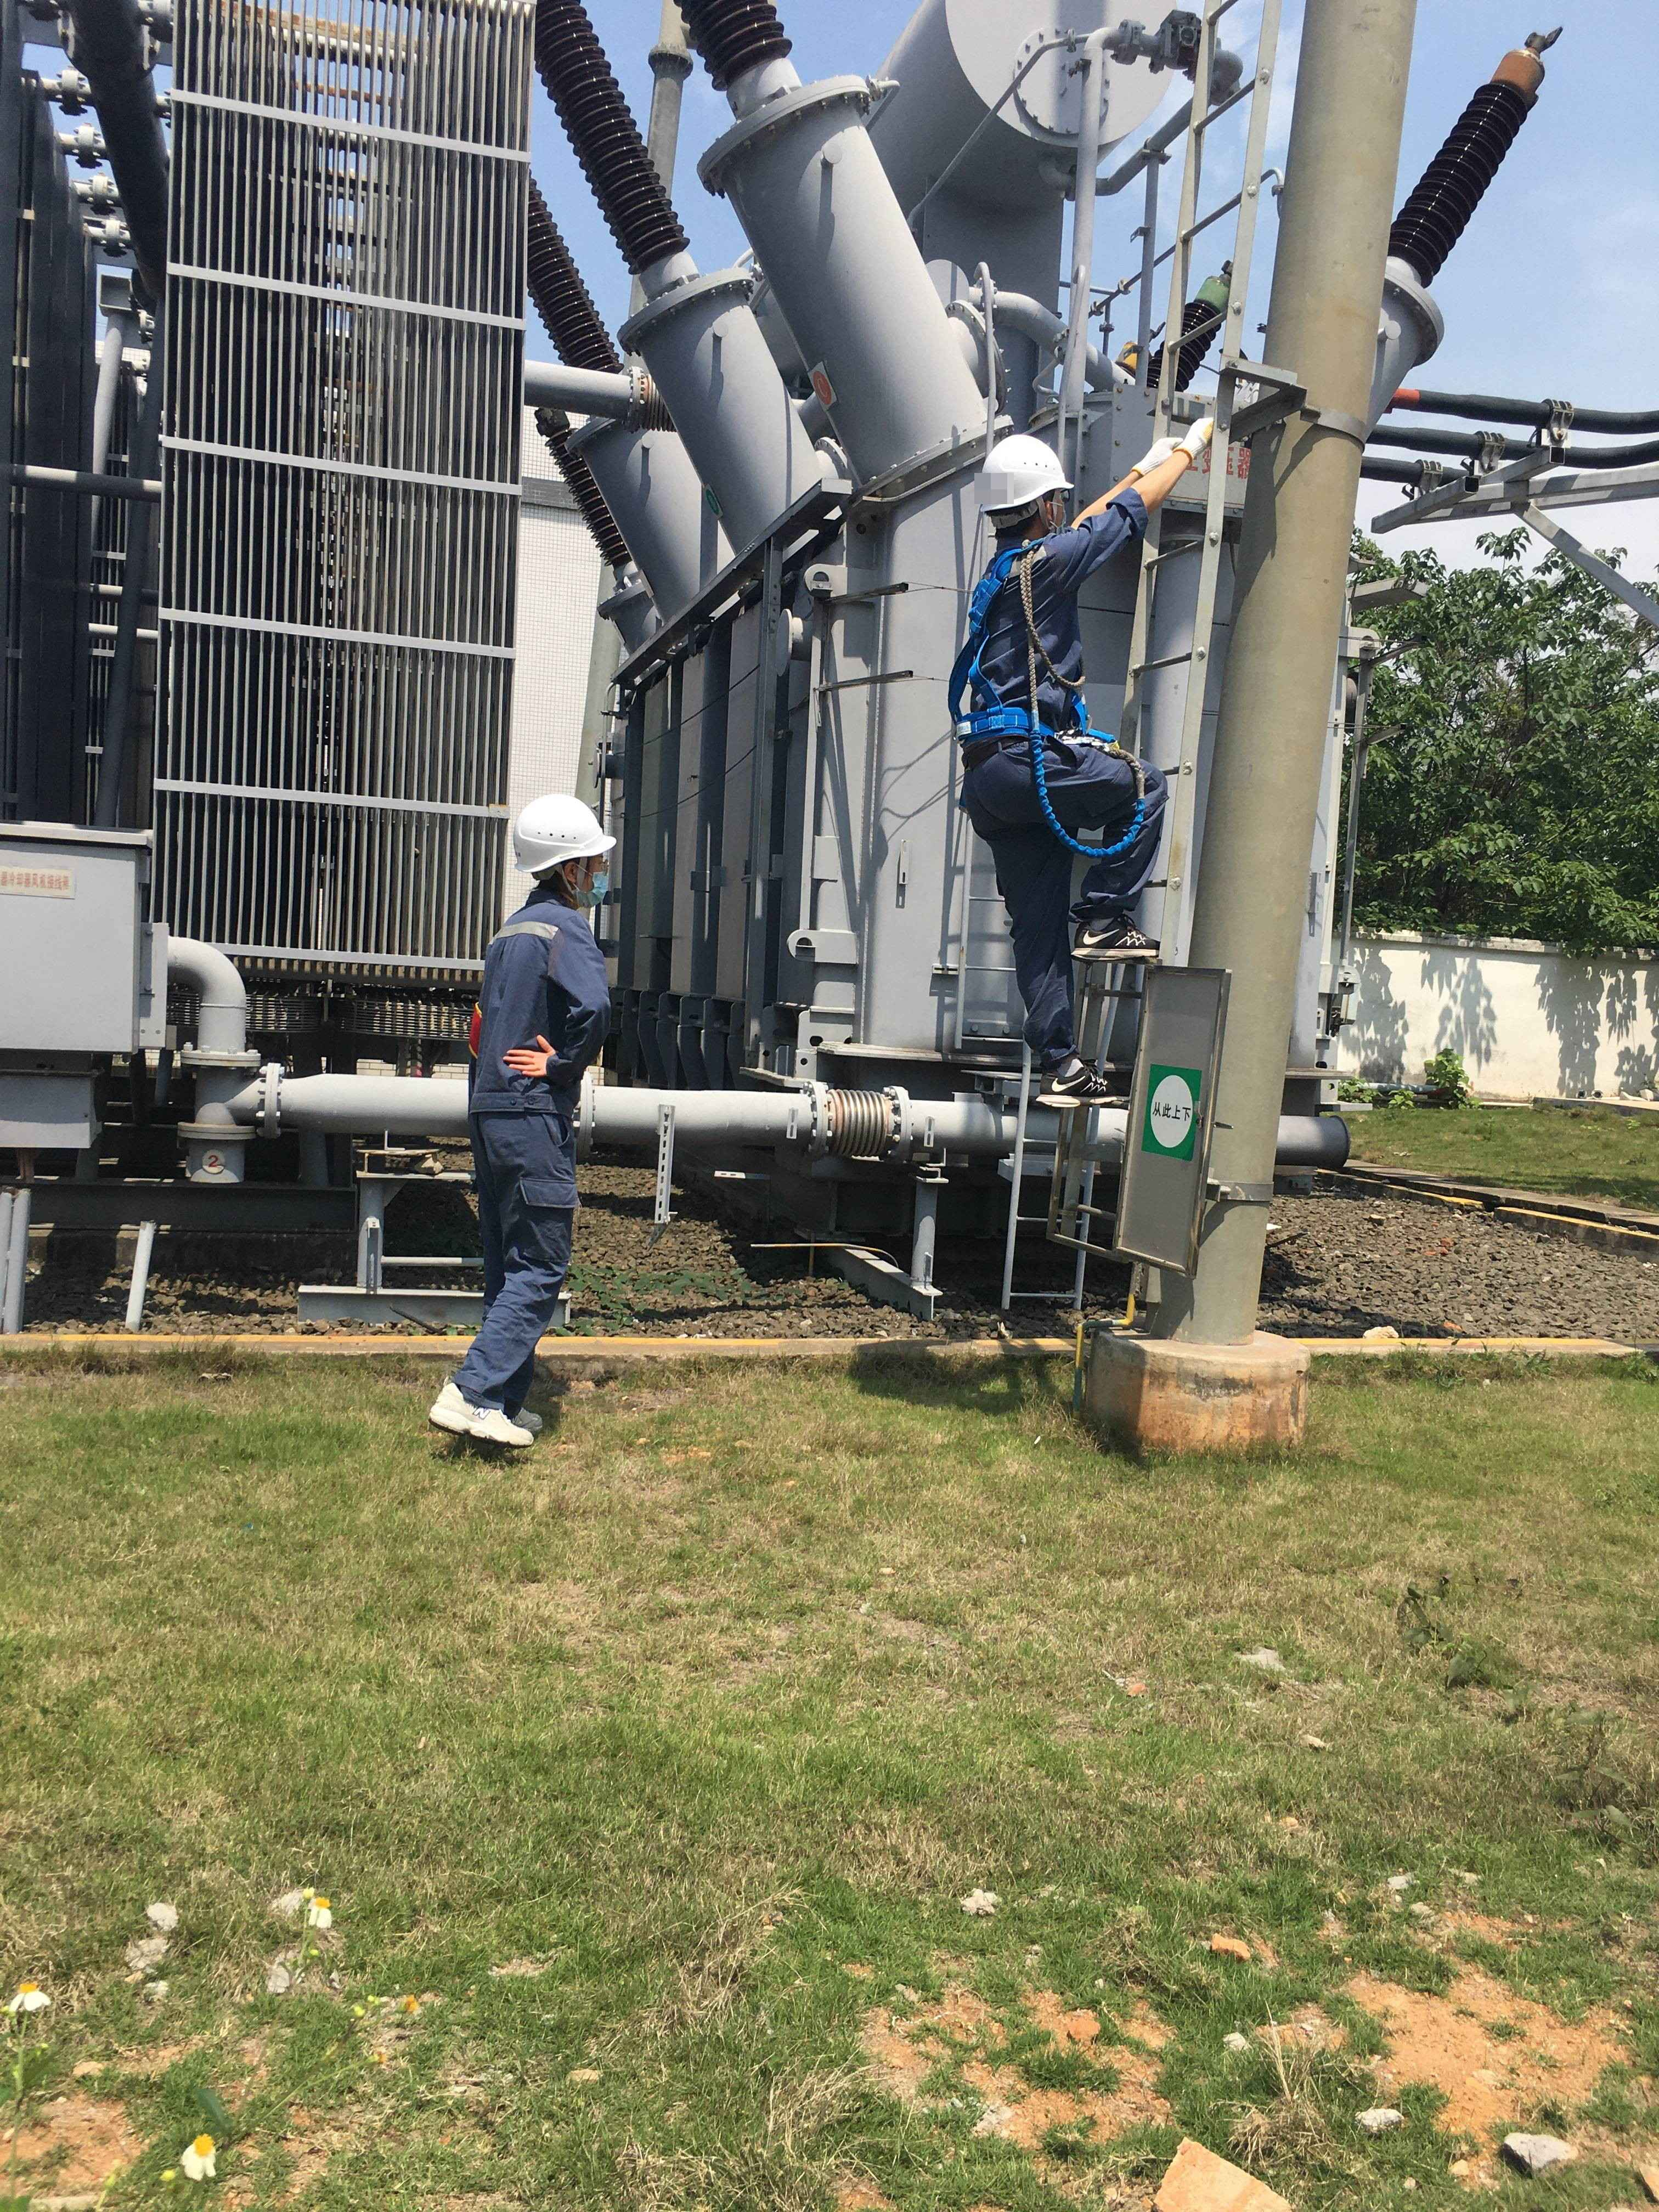downsuit: (958, 747, 1171, 1069), (460, 1123, 586, 1409)
upsuit: (950, 507, 1150, 725), (465, 897, 617, 1101)
wrongtop: (1072, 446, 1195, 526)
